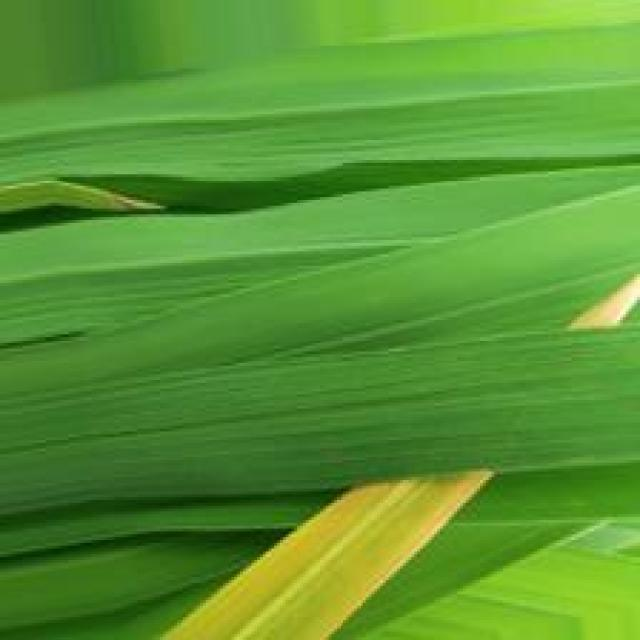HealthyLeaf: (0, 161, 640, 523)
